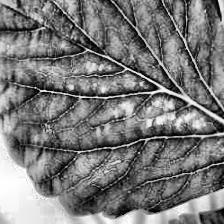Angular Leafspot: (63, 55, 218, 140)
